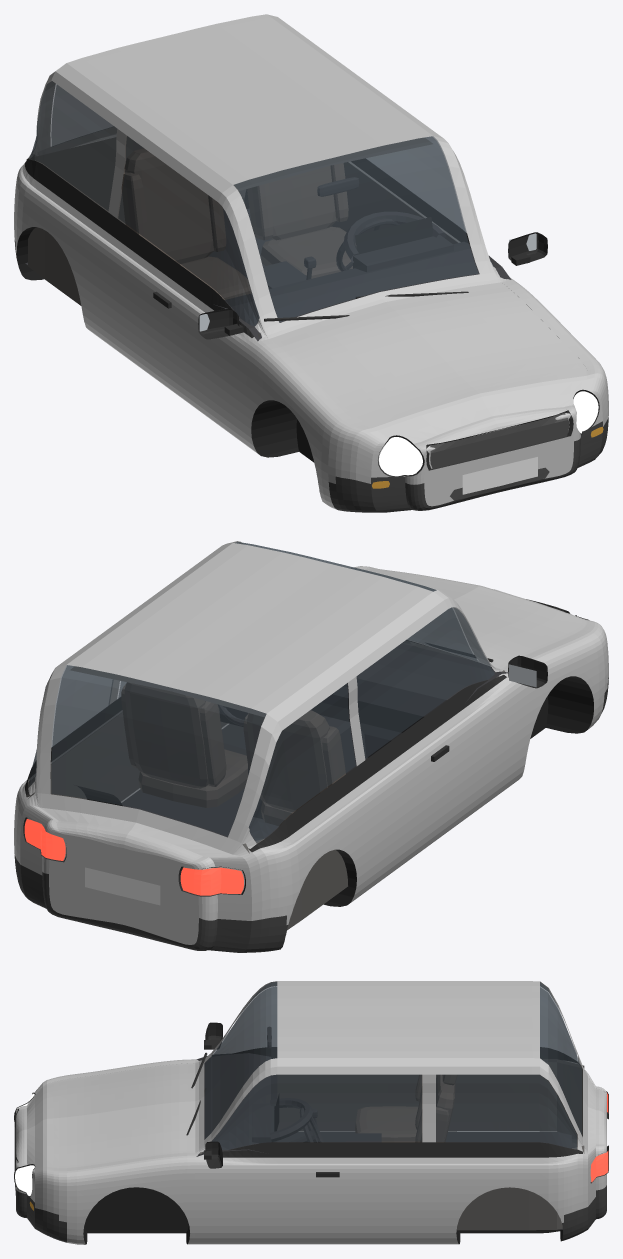
Rendered from car_rusty.fbx.
3 renders of one model, top to bottom at view 1: azimuth 30°, elevation 25°; view 2: azimuth 150°, elevation 25°; view 3: azimuth 270°, elevation 25°, orthographic. The views are drawn at different scales.
Parts seen in each view (by area): view 1: rusty__glass, rusty__hood, rusty__roof, rusty__seats, rusty__interior, rusty__quarterR, rusty__doorR, rusty__cabin, rusty__pillars, rusty__fenderFR, rusty__seals, rusty__bumperF (+10 smaller); view 2: rusty__glass, rusty__roof, rusty__seats, rusty__quarterR, rusty__interior, rusty__doorR, rusty__rearPanel, rusty__hood, rusty__pillars, rusty__cabin, rusty__trunk, rusty__seals (+7 smaller); view 3: rusty__glass, rusty__roof, rusty__cabin, rusty__hood, rusty__quarterL, rusty__doorL, rusty__interior, rusty__fenderFL, rusty__seals, rusty__pillars, rusty__wells, rusty__seats (+7 smaller).
Boxes of the visible parts, <box> form: rusty__glass: <box>29,81,493,326</box>; rusty__hood: <box>258,280,597,452</box>; rusty__roof: <box>55,14,443,192</box>; rusty__seats: <box>121,148,356,299</box>; rusty__interior: <box>25,177,511,341</box>; rusty__quarterR: <box>14,163,150,372</box>; rusty__doorR: <box>139,264,251,446</box>; rusty__cabin: <box>26,135,458,336</box>; rusty__pillars: <box>28,71,498,332</box>; rusty__fenderFR: <box>240,338,405,509</box>; rusty__seals: <box>25,158,469,337</box>; rusty__bumperF: <box>328,417,608,512</box>; rusty__glass: <box>29,542,494,842</box>; rusty__roof: <box>56,543,443,721</box>; rusty__seats: <box>121,682,345,826</box>; rusty__quarterR: <box>211,751,417,924</box>; rusty__interior: <box>121,643,507,840</box>; rusty__doorR: <box>406,677,518,859</box>; rusty__rearPanel: <box>42,822,217,944</box>; rusty__hood: <box>351,566,597,670</box>; rusty__pillars: <box>28,541,503,849</box>; rusty__cabin: <box>26,666,505,930</box>; rusty__trunk: <box>26,639,508,868</box>; rusty__seals: <box>25,675,506,852</box>; rusty__glass: <box>205,982,581,1149</box>; rusty__roof: <box>277,981,539,1066</box>; rusty__cabin: <box>200,1059,584,1230</box>; rusty__hood: <box>16,1059,195,1173</box>; rusty__quarterL: <box>363,1148,595,1244</box>; rusty__doorL: <box>204,1157,363,1244</box>; rusty__interior: <box>196,1026,571,1229</box>; rusty__fenderFL: <box>30,1157,204,1244</box>; rusty__seals: <box>222,1047,582,1157</box>; rusty__pillars: <box>204,981,582,1151</box>; rusty__wells: <box>83,1187,562,1244</box>; rusty__seats: <box>355,1074,457,1142</box>.
Size of the model in its own units: 1.98 by 1.26 by 3.76.
